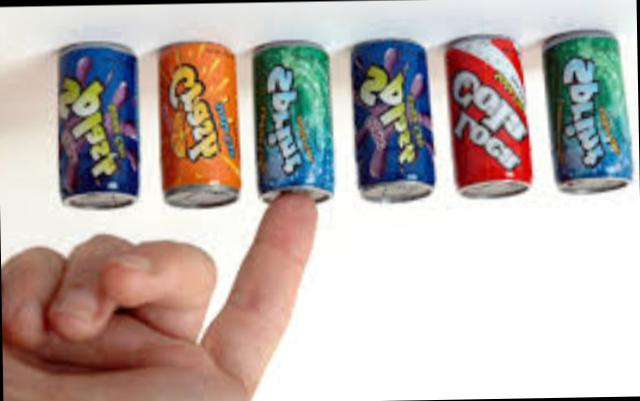metal: (542, 31, 629, 194), (444, 38, 530, 198), (351, 42, 434, 201), (158, 43, 237, 208), (59, 44, 136, 209), (253, 43, 332, 201)
